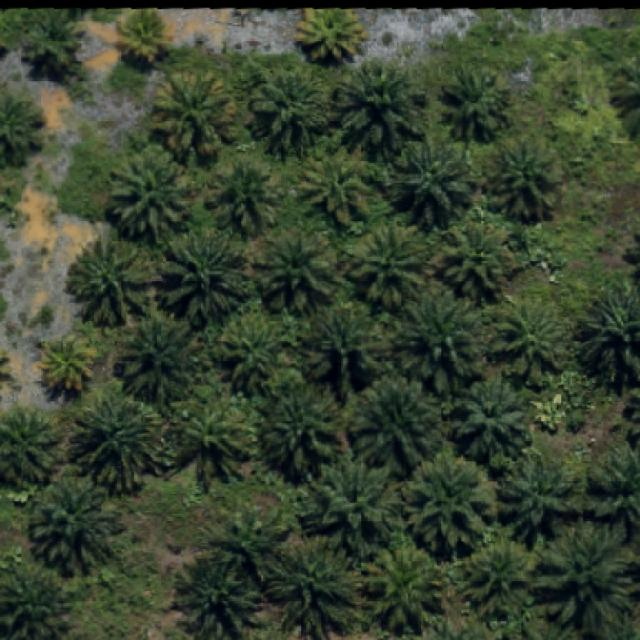Kelapa_Sawit: (533, 524, 633, 634), (158, 222, 255, 330), (402, 452, 498, 560), (262, 538, 363, 640), (68, 390, 164, 495), (106, 140, 199, 248), (29, 474, 126, 575), (348, 375, 442, 473), (391, 292, 478, 394), (62, 235, 158, 327), (387, 134, 475, 234), (258, 378, 340, 482), (333, 60, 425, 152), (150, 70, 241, 161), (173, 551, 264, 640), (309, 460, 389, 560), (361, 543, 444, 639), (497, 449, 578, 546), (169, 396, 251, 490), (488, 133, 566, 229), (202, 150, 282, 242), (115, 322, 197, 406), (297, 142, 377, 228), (256, 231, 336, 317), (348, 226, 428, 312), (252, 68, 331, 154), (449, 376, 526, 462), (212, 504, 290, 584), (491, 295, 564, 380), (436, 220, 515, 298), (458, 536, 532, 619), (441, 61, 514, 144), (308, 310, 383, 388), (19, 8, 87, 70), (219, 324, 279, 394), (293, 8, 370, 62), (37, 336, 95, 396), (117, 8, 177, 63)
